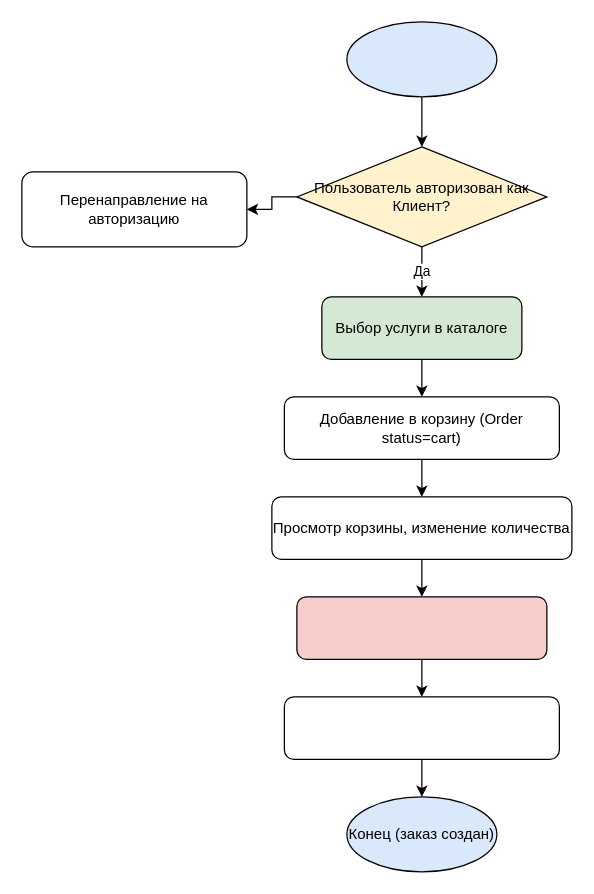
Image size: 594x894. Some labels were removed from this diagram. The centre of each missing label's shape, as x and y in pixels:
"Начало" belongs at (x=421, y=59).
"Оформление заказа (status=new)" belongs at (x=421, y=627).
"Сохранение Order и OrderItem в БД" belongs at (x=421, y=727).
